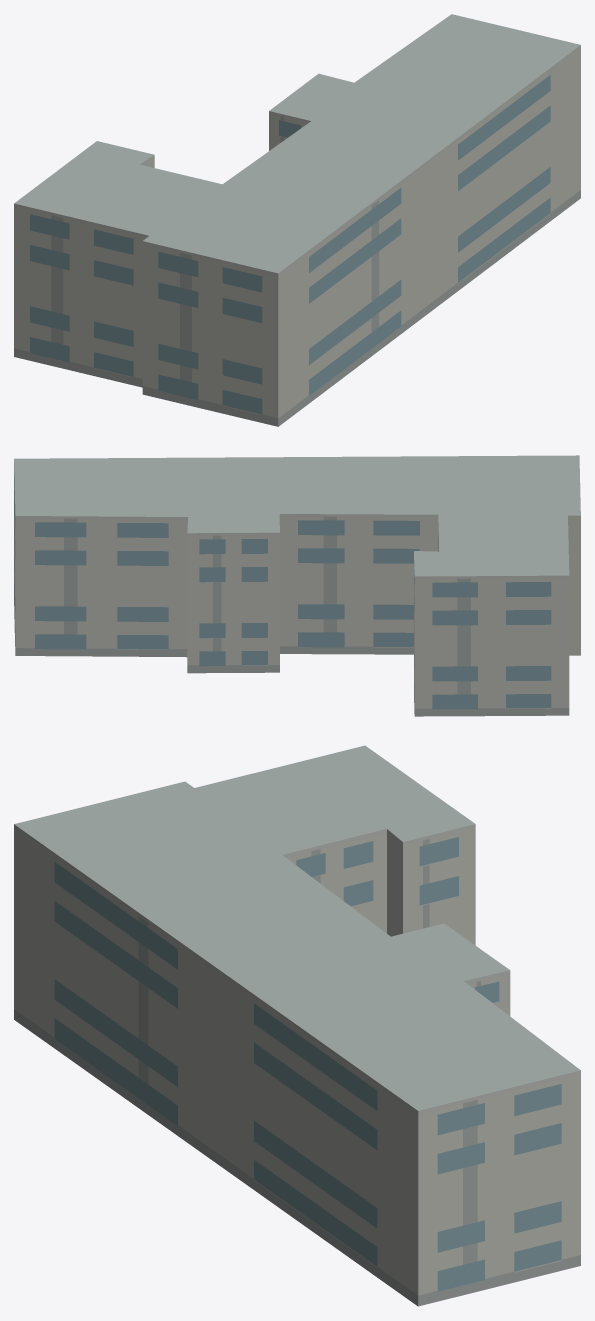
The model's file is survey-upis-32638880.glb.
3 views of the same model, one above another, from view 1: azimuth 30°, elevation 25°; view 2: azimuth 150°, elevation 25°; view 3: azimuth 270°, elevation 25° (orthographic). The views are drawn at different scales.
Parts seen in each view (by area): view 1: survey-upis-32638880.tmp; view 2: survey-upis-32638880.tmp; view 3: survey-upis-32638880.tmp.
Boxes of the visible parts, x1,y1,x2,y2 form: survey-upis-32638880.tmp: (14, 14, 580, 426); survey-upis-32638880.tmp: (14, 455, 580, 716); survey-upis-32638880.tmp: (14, 745, 580, 1306).
Bounding box in the file's own units: 54.92 × 13.7 × 36.
